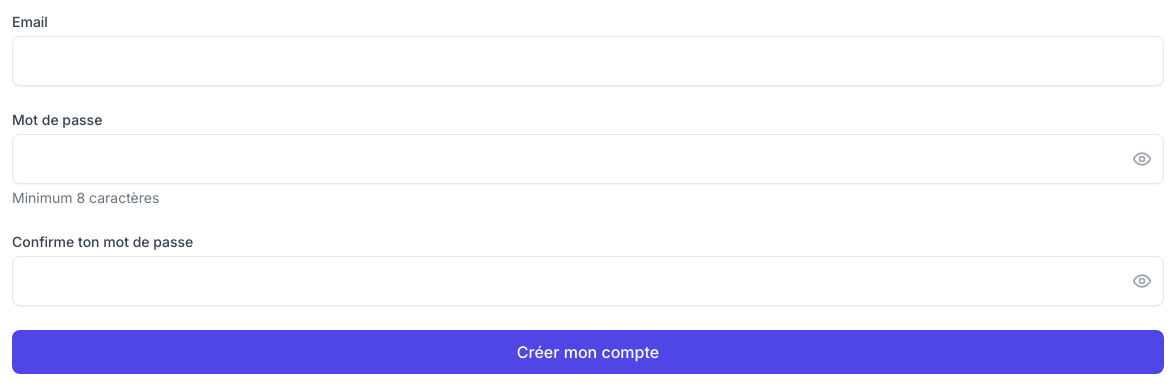
Test: AuthForm › register mode › should show validation error for short password
Step 1. Type "1234567" into the password field labelled "Mot de passe" → (588, 159), box [12, 134, 1164, 184]
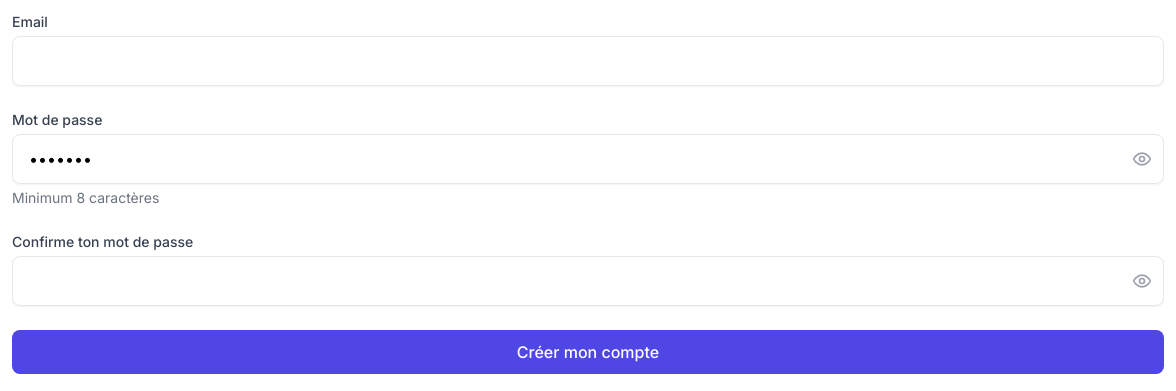
Step 2. Leave the password field labelled "Mot de passe", box [12, 134, 1164, 184]
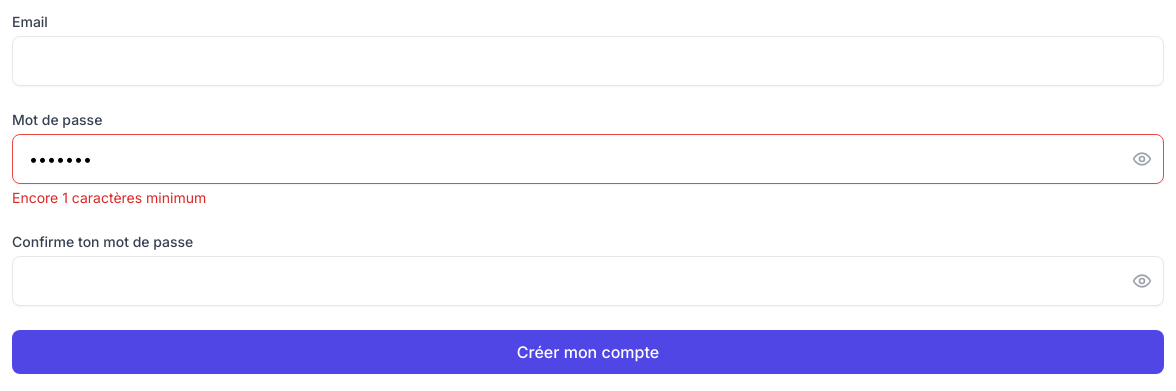
expect the text "Encore 1 caractères minimum" is shown: met, box [12, 189, 206, 206]
